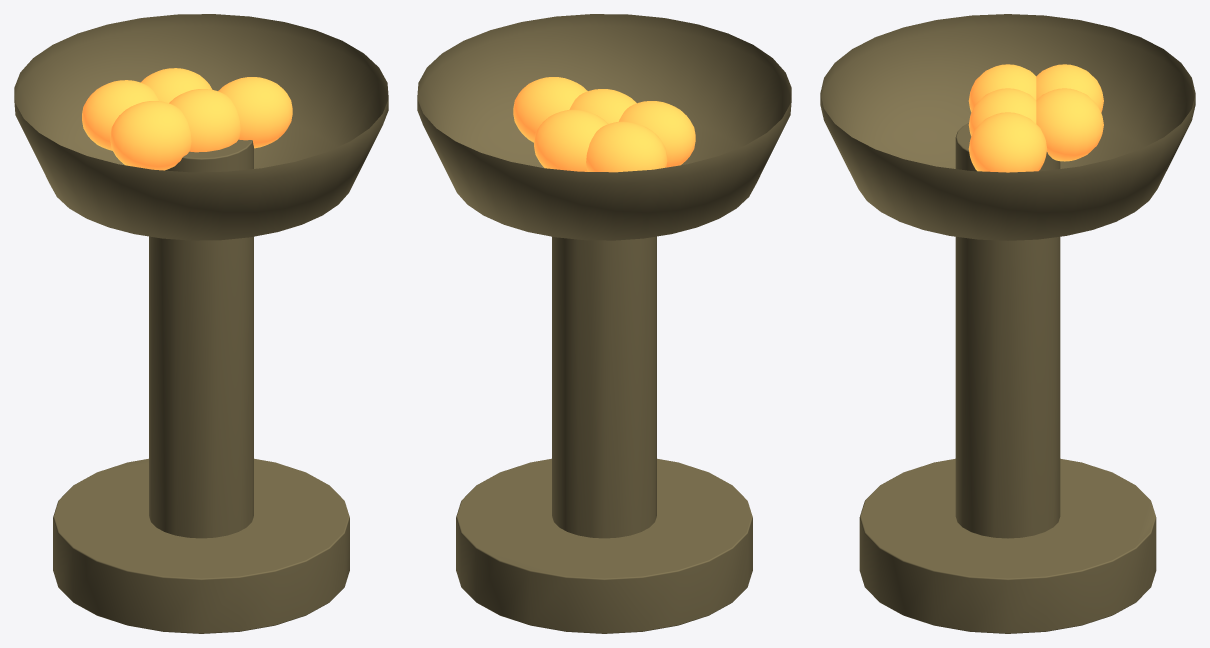
Rendered from temple-brazier.glb.
3 renders of one model, left to right at view 1: azimuth 30°, elevation 25°; view 2: azimuth 150°, elevation 25°; view 3: azimuth 270°, elevation 25°, orthographic.
Parts seen in each view (by area): view 1: temple-brazier - Room Review metal runtime PBR, temple-brazier - Room Review banked amber runtime PBR; view 2: temple-brazier - Room Review metal runtime PBR, temple-brazier - Room Review banked amber runtime PBR; view 3: temple-brazier - Room Review metal runtime PBR, temple-brazier - Room Review banked amber runtime PBR.
Part boxes in pixels (<box>): temple-brazier - Room Review metal runtime PBR: <box>14,14,388,633</box>; temple-brazier - Room Review banked amber runtime PBR: <box>82,68,292,170</box>; temple-brazier - Room Review metal runtime PBR: <box>417,14,791,633</box>; temple-brazier - Room Review banked amber runtime PBR: <box>513,77,695,172</box>; temple-brazier - Room Review metal runtime PBR: <box>820,14,1195,633</box>; temple-brazier - Room Review banked amber runtime PBR: <box>968,64,1103,172</box>.
Size of the model in its own units: 0.86 by 1.21 by 0.86.
